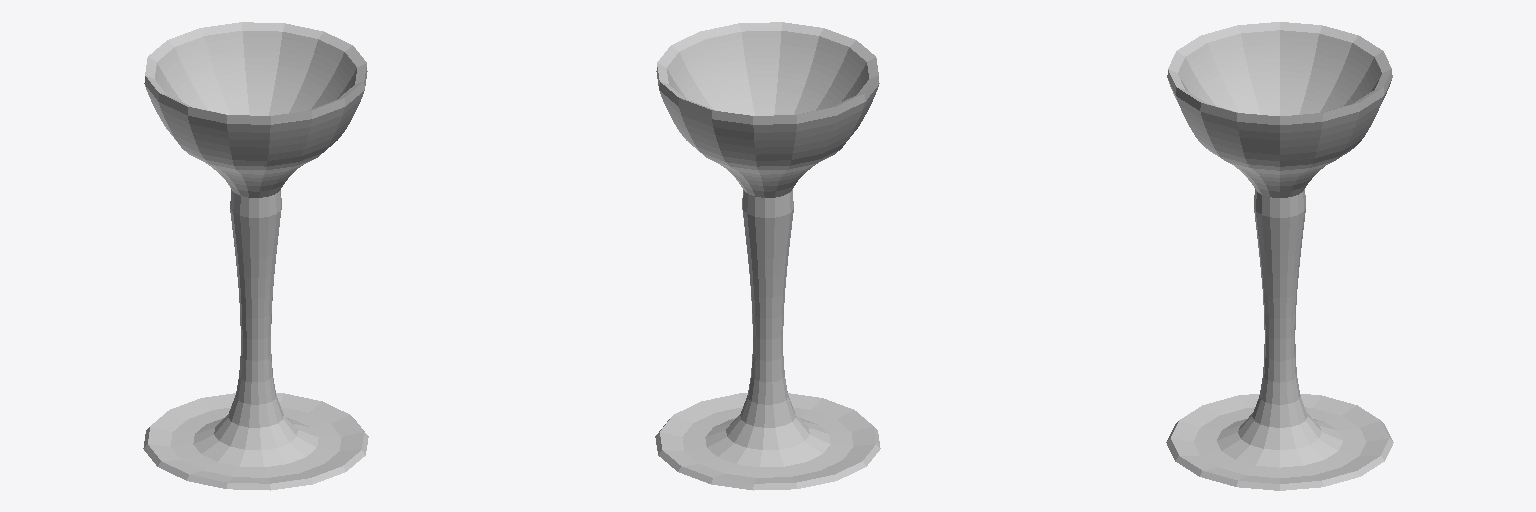
The model's file is Chalice.obj.
3 renders of one model, left to right at view 1: azimuth 30°, elevation 25°; view 2: azimuth 150°, elevation 25°; view 3: azimuth 270°, elevation 25°, orthographic.
Parts seen in each view (by area): view 1: ChaliceMesh; view 2: ChaliceMesh; view 3: ChaliceMesh.
Boxes of the visible parts, x1=… form: ChaliceMesh: x1=143, y1=22, x2=368, y2=490; ChaliceMesh: x1=655, y1=22, x2=880, y2=490; ChaliceMesh: x1=1166, y1=22, x2=1393, y2=490.
Bounding box in the file's own units: 2 × 3.62 × 2.